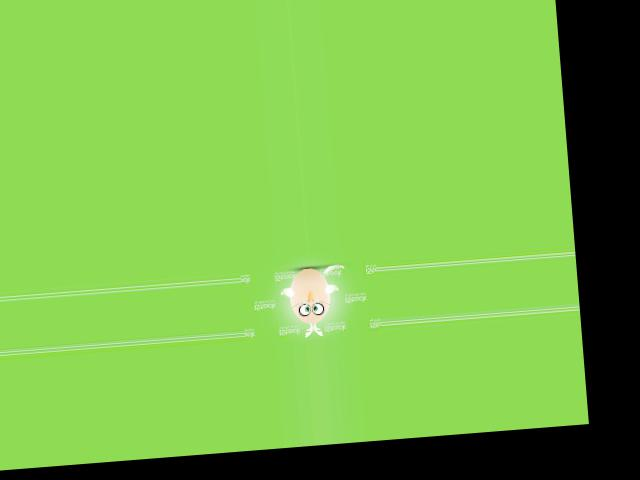egg: (288, 265, 333, 324)
